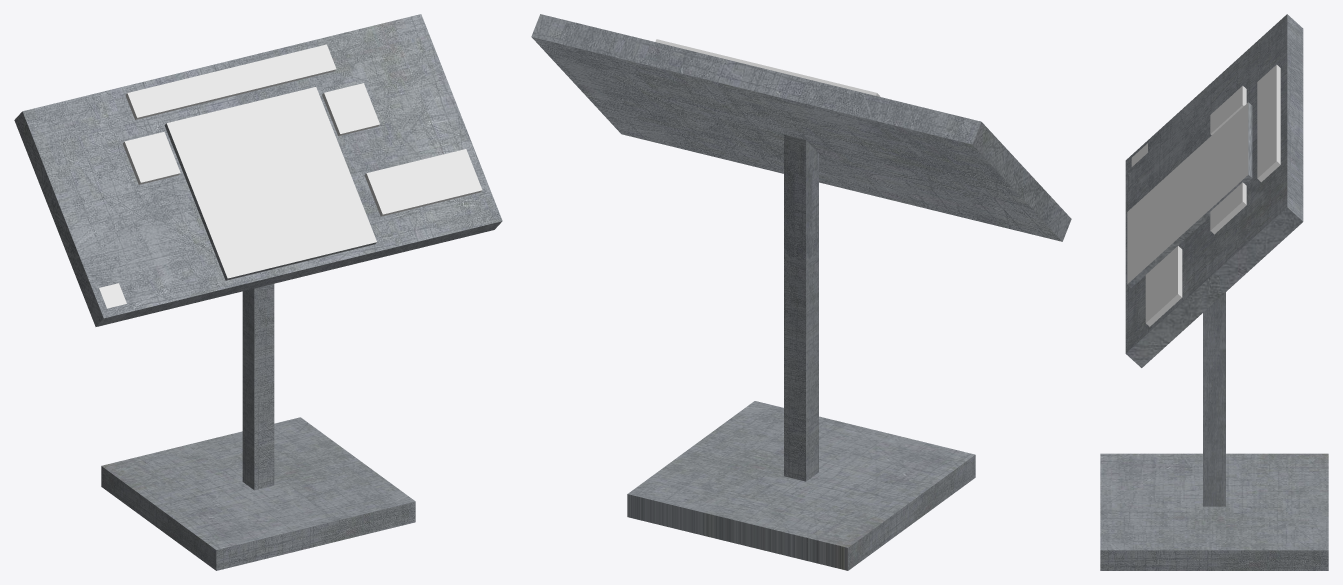
The model's file is Texture changer.dae.
The picture shows the model from 3 angles, left to right: view 1: azimuth 30°, elevation 25°; view 2: azimuth 150°, elevation 25°; view 3: azimuth 270°, elevation 25°; orthographic projection. The views are drawn at different scales.
Visible parts, largest first — view 1: Cube; view 2: Cube; view 3: Cube.
Part boxes in pixels (x1,y1,x2,y2): Cube: (14,14,502,570); Cube: (531,14,1071,570); Cube: (1100,14,1328,570).
Size of the model in its own units: 4 by 2 by 3.98.
Materials: 8 (1 with a texture image).
